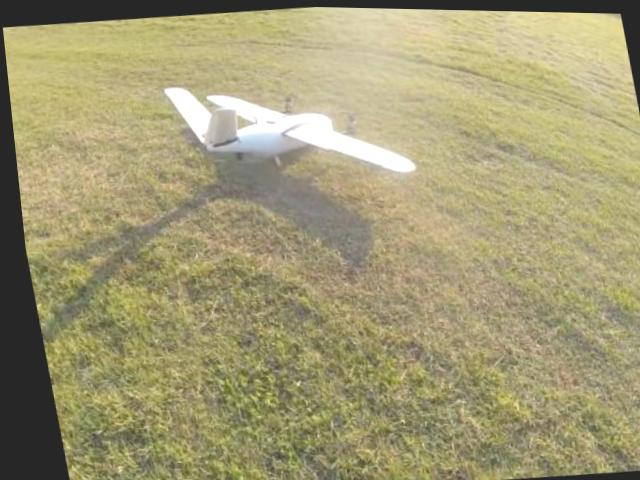uav: (149, 45, 422, 206)
